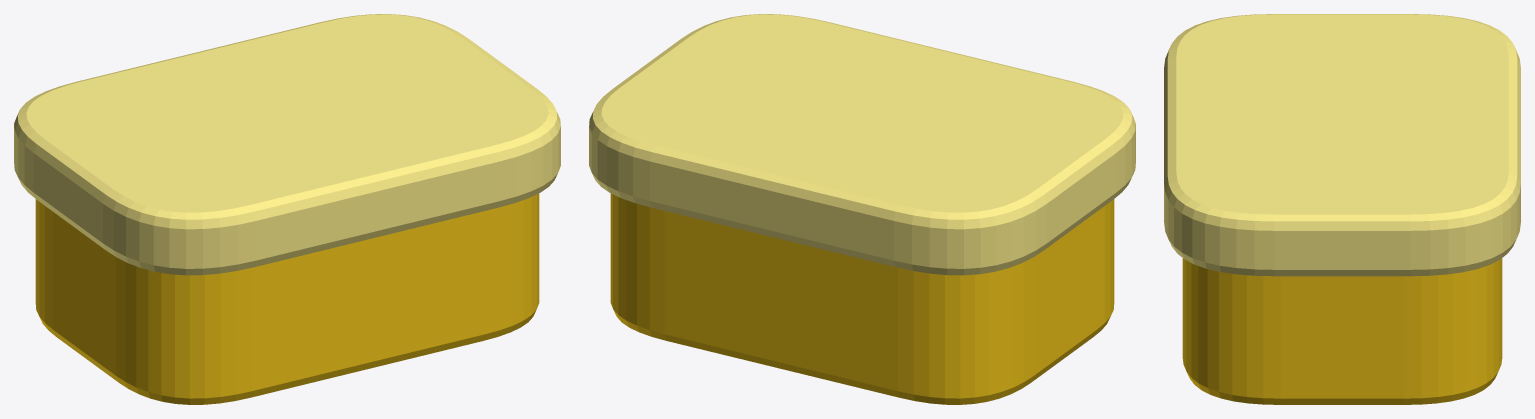
File: butter-tub.glb
3 renders of one model, left to right at view 1: azimuth 30°, elevation 25°; view 2: azimuth 150°, elevation 25°; view 3: azimuth 270°, elevation 25°, orthographic.
Parts seen in each view (by area): view 1: Tub_Lid, Tub_Lower; view 2: Tub_Lid, Tub_Lower; view 3: Tub_Lid, Tub_Lower.
Part boxes in pixels (<box>): Tub_Lid: <box>14,14,560,275</box>; Tub_Lower: <box>35,193,539,404</box>; Tub_Lid: <box>589,14,1135,275</box>; Tub_Lower: <box>610,193,1114,404</box>; Tub_Lid: <box>1164,14,1520,276</box>; Tub_Lower: <box>1182,258,1502,404</box>.
Size of the model in its own units: 0.162 by 0.071 by 0.116.
